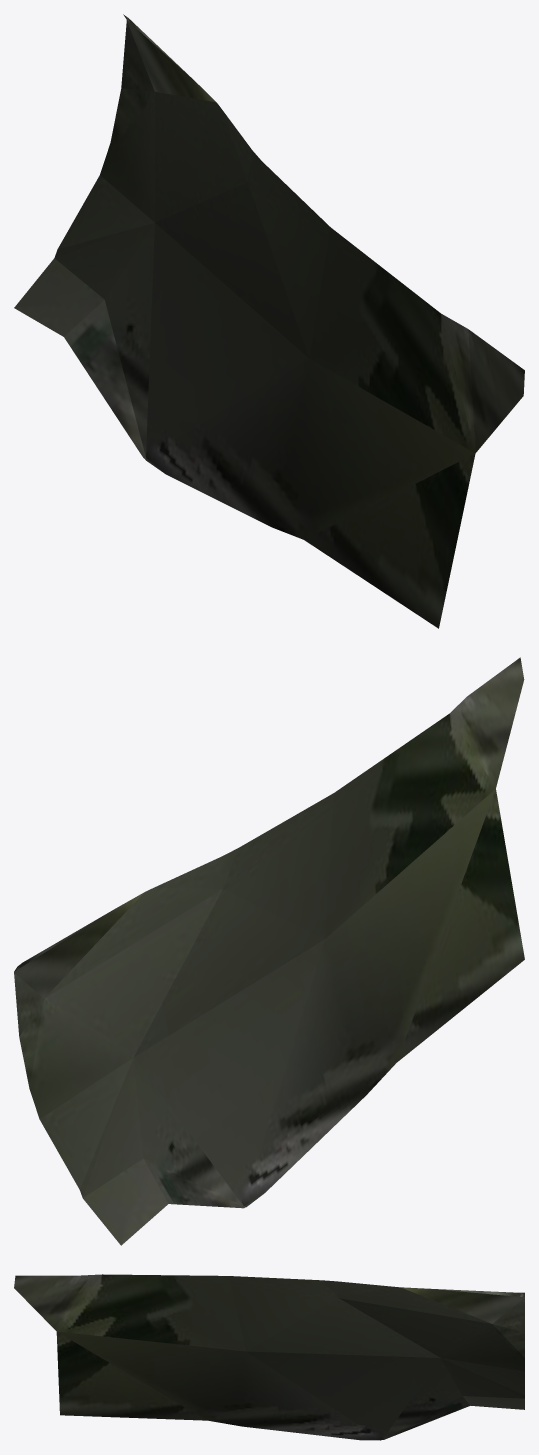
3 renders of one model, top to bottom at view 1: azimuth 30°, elevation 25°; view 2: azimuth 150°, elevation 25°; view 3: azimuth 270°, elevation 25°, orthographic. The views are drawn at different scales.
Size of the model in its own units: 0.2199 by 0.6026 by 1.58.
1 material, 1 textured.
